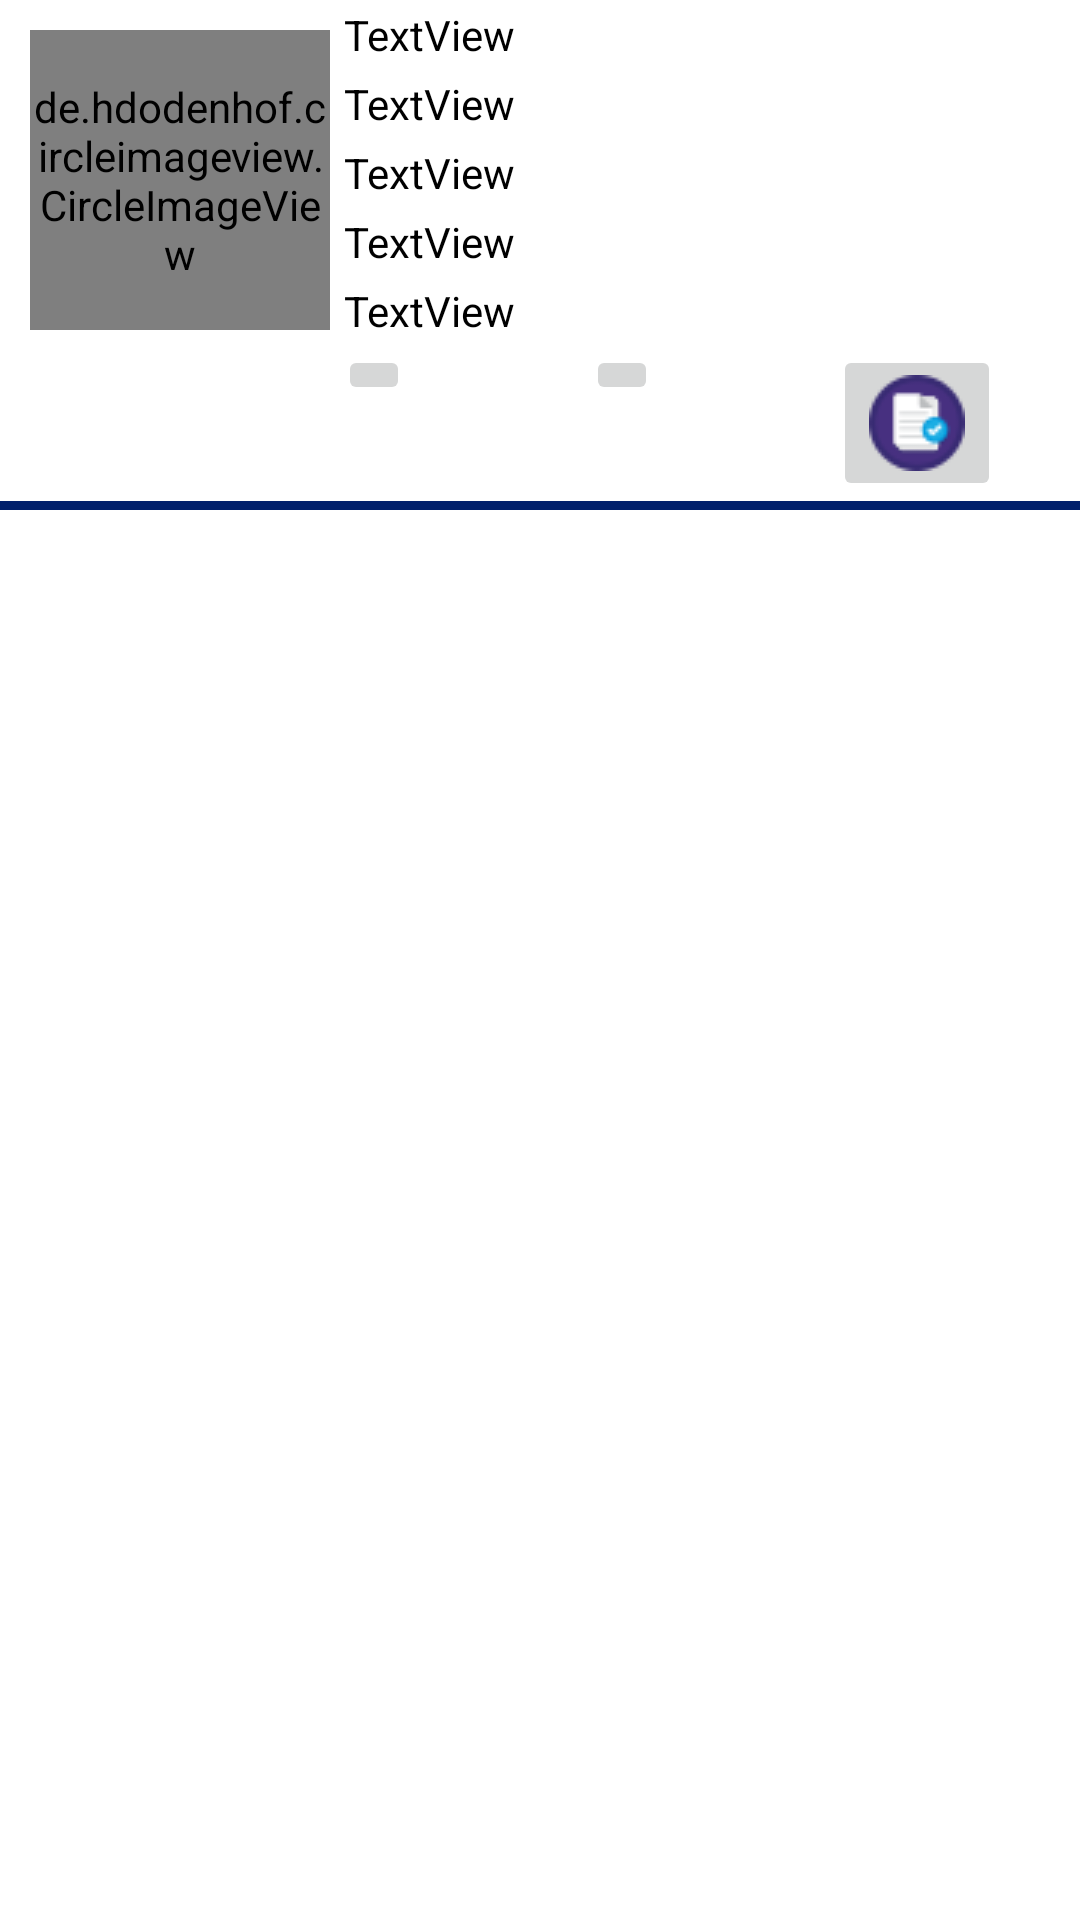

Icons on this 1080px×1920px Android screen, each with the point to tap as [x,y]:
assign: [917,423]
